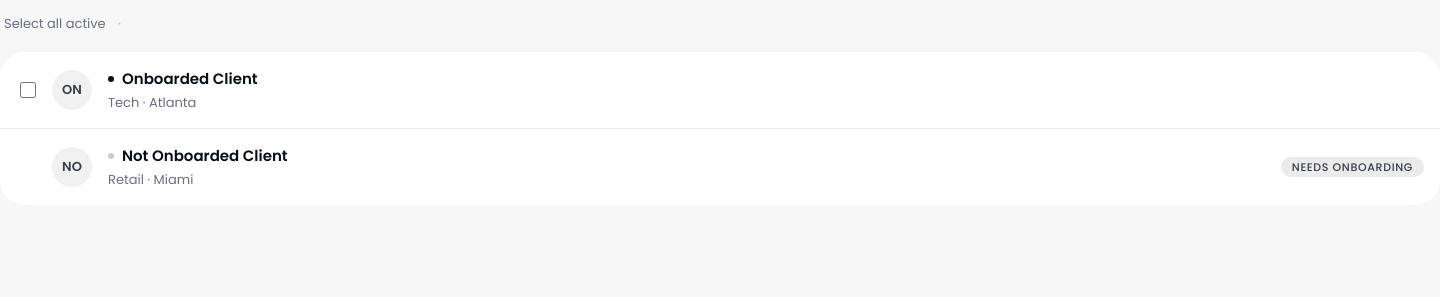
Test: BulkGenerateList — onboarding gate › "Select all active" selects only onboarded clients
Click the button "Select all active".
click(55, 24)  # box [4,14,106,34]
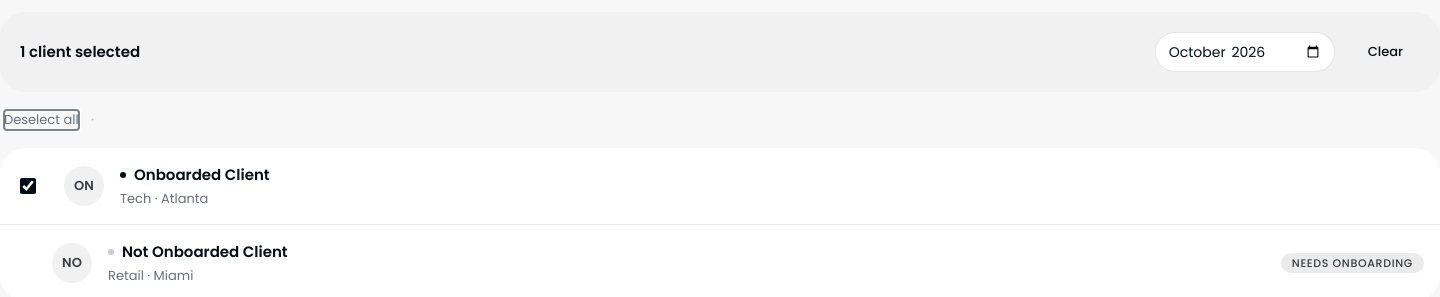
Check: the text "1 client selected" is shown, box [20,41,140,63]
